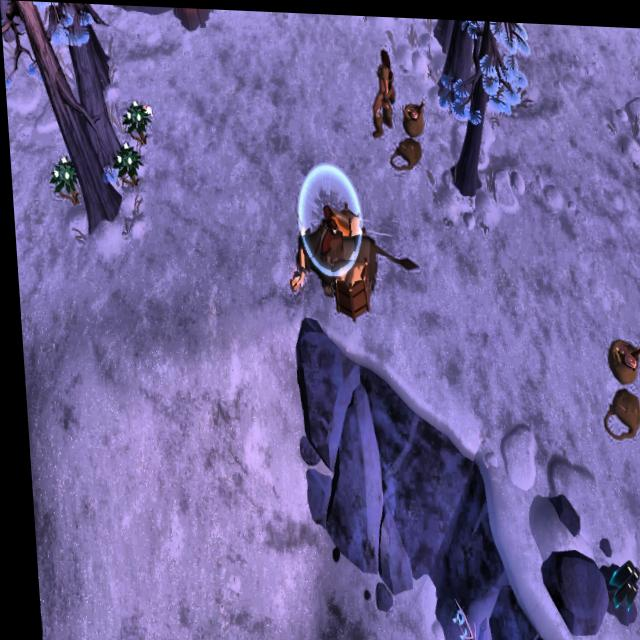enemy_factionKeeper: (362, 40, 395, 137)
fiber_t3: (46, 150, 79, 210), (118, 93, 154, 145), (109, 137, 141, 192)
ore_t4: (601, 548, 633, 606)
